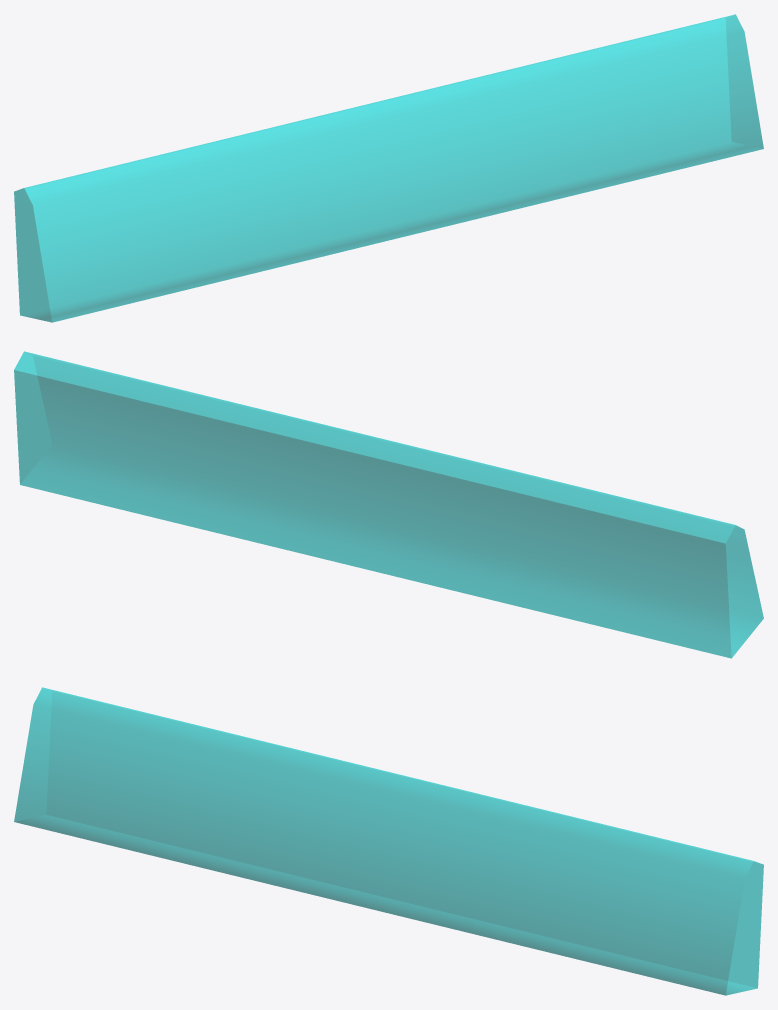
The model's file is SM_Veh_Boat_Large_01_Sail_Folded_01_Collision.fbx.
3 views of the same model, one above another, from view 1: azimuth 30°, elevation 25°; view 2: azimuth 150°, elevation 25°; view 3: azimuth 330°, elevation 25° (orthographic).
Visible parts, largest first — view 1: SM_Veh_Boat_Large_01_Sail_Folded_01_Collision; view 2: SM_Veh_Boat_Large_01_Sail_Folded_01_Collision; view 3: SM_Veh_Boat_Large_01_Sail_Folded_01_Collision.
Boxes of the visible parts, bbox=[...] form: SM_Veh_Boat_Large_01_Sail_Folded_01_Collision: bbox=[14, 14, 763, 322]; SM_Veh_Boat_Large_01_Sail_Folded_01_Collision: bbox=[14, 351, 763, 658]; SM_Veh_Boat_Large_01_Sail_Folded_01_Collision: bbox=[14, 687, 763, 995].
Bounding box in the file's own units: 1097 × 192 × 102.
